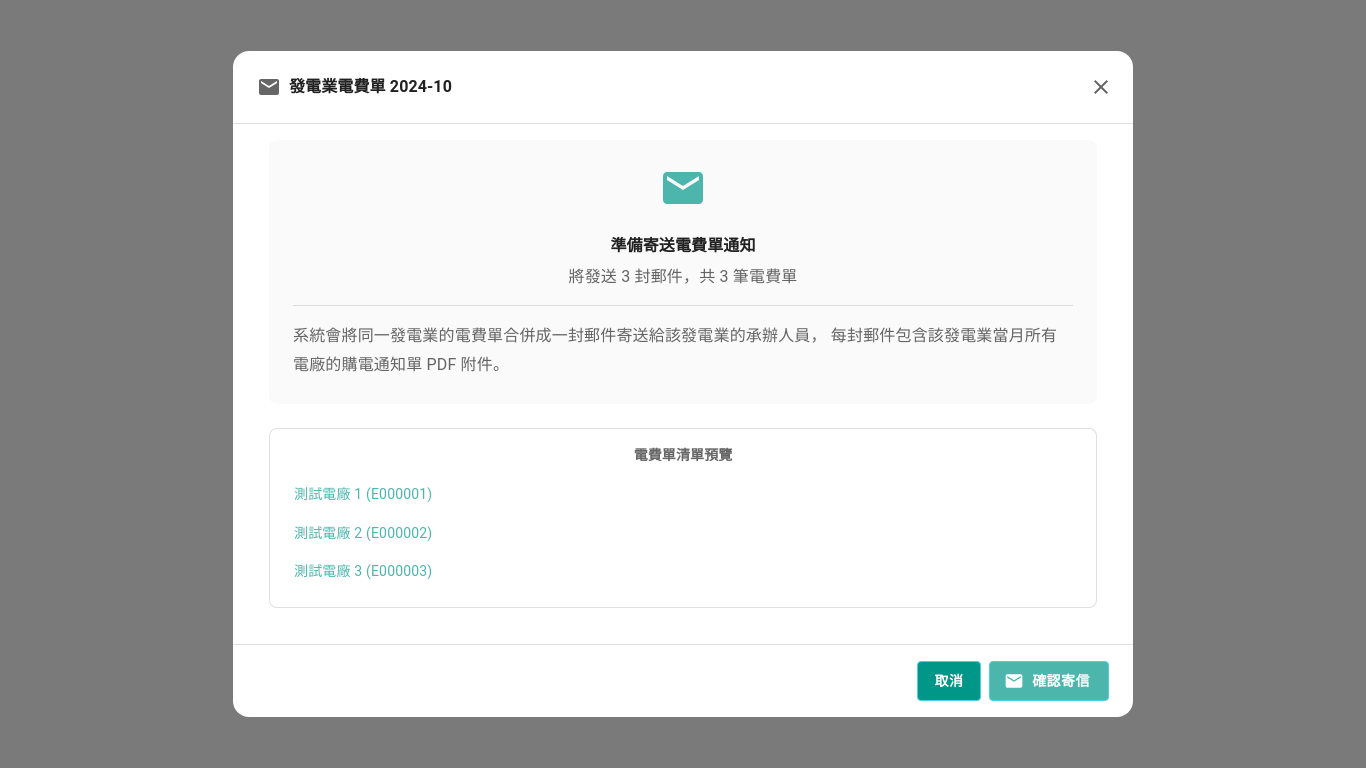
Test case: IndustryBillEmailModal (Integration) › UI Interactions › should disable buttons during loading
Expected: the heading "準備寄送電費單通知" is shown, [610, 236, 756, 255]
Click the button "確認寄信": click(1049, 681) [989, 661, 1109, 701]
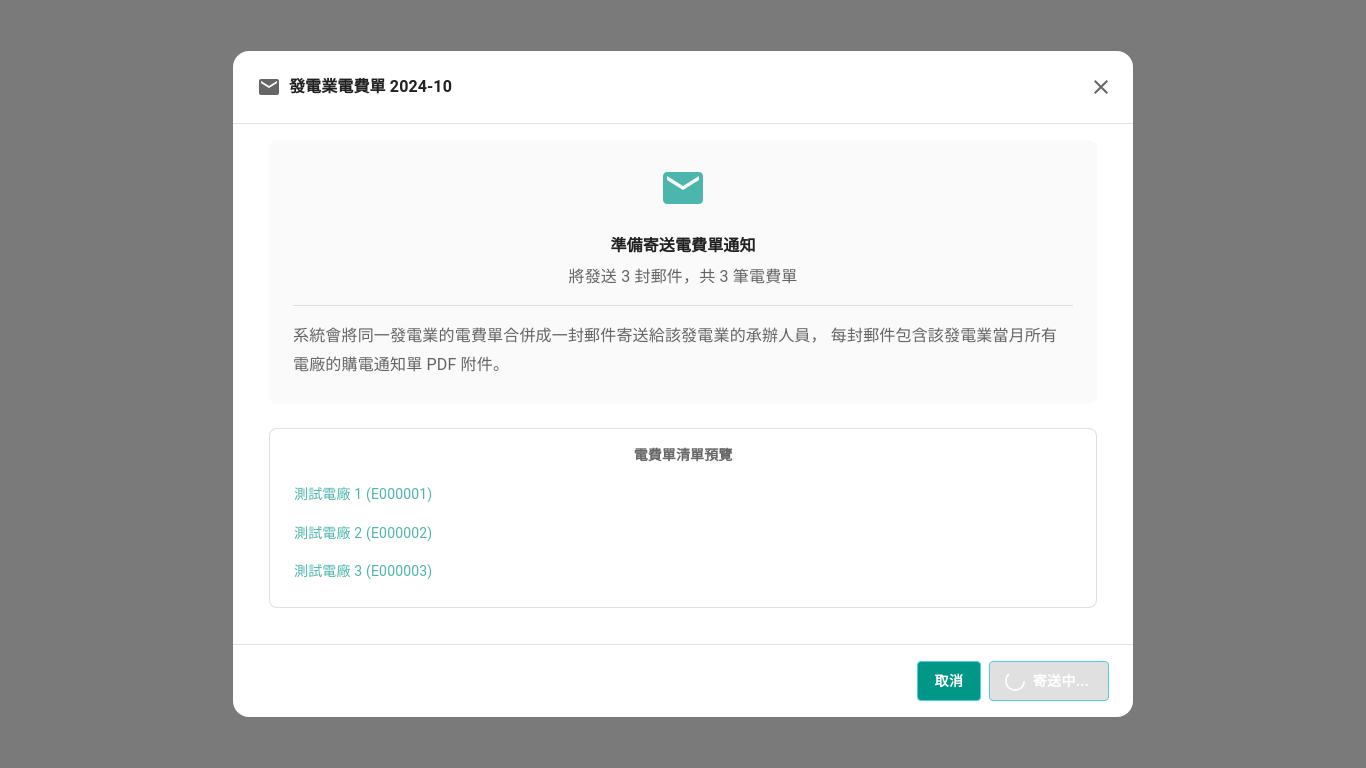
Expected: the button "取消" is disabled, [917, 661, 981, 701]
Now the button "寄送中..." is shown, box [989, 661, 1109, 701]
